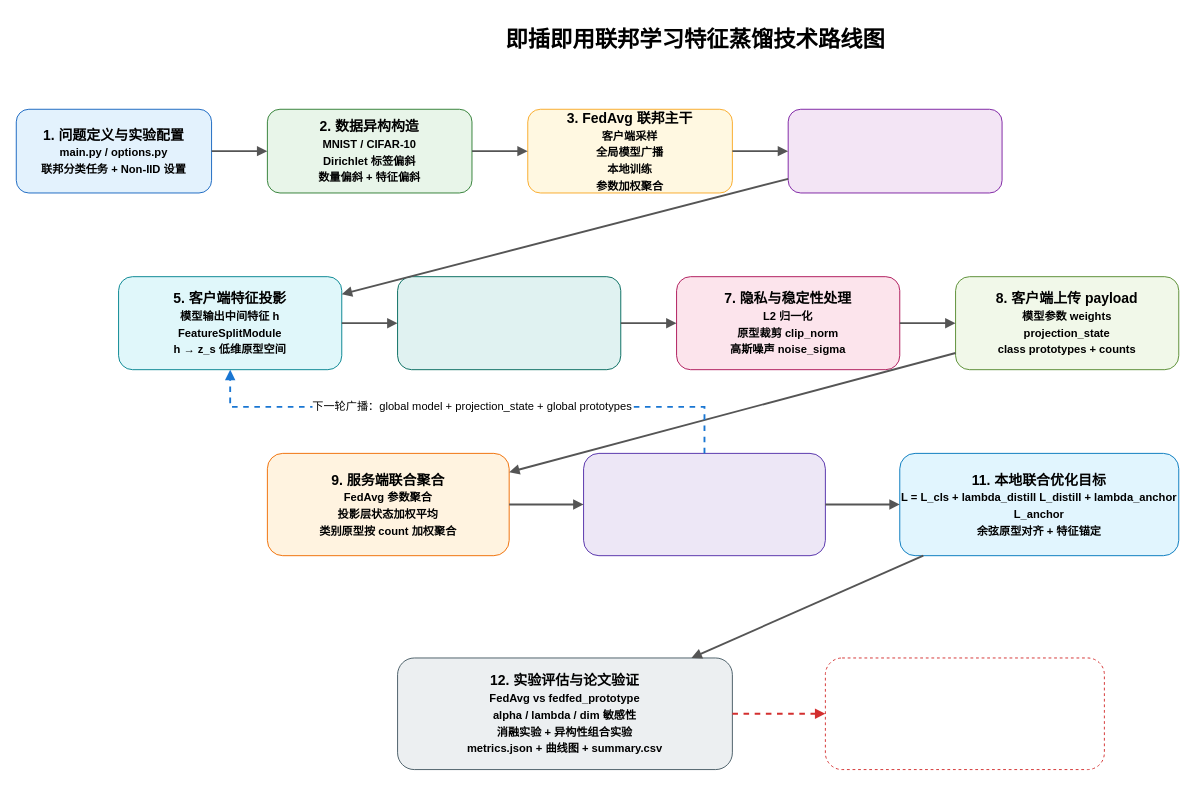
The diagram is 1195 pixels wide and 786 high, and some of its shapes have lost their labels. The box of each missing label's shape, as (x1, y1, x2, y2) in pixels:
10. 全局原型库更新 global_prototypes prototype_momentum 平滑 广播到下一轮客户端: (583, 452, 825, 556)
4. 插件协议层 BaseClientPlugin BaseServerPlugin plugin_name = fedfed_prototype: (787, 108, 1002, 193)
6. 本地类原型提取 按类别统计 z_s prototype_c = mean(z_s | y=c) count_c 作为可靠性权重: (397, 276, 621, 370)
后续强化方向 每类多簇原型 Secure Aggregation 真实分布式 server/client 更严格隐私预算分析: (824, 657, 1104, 770)
